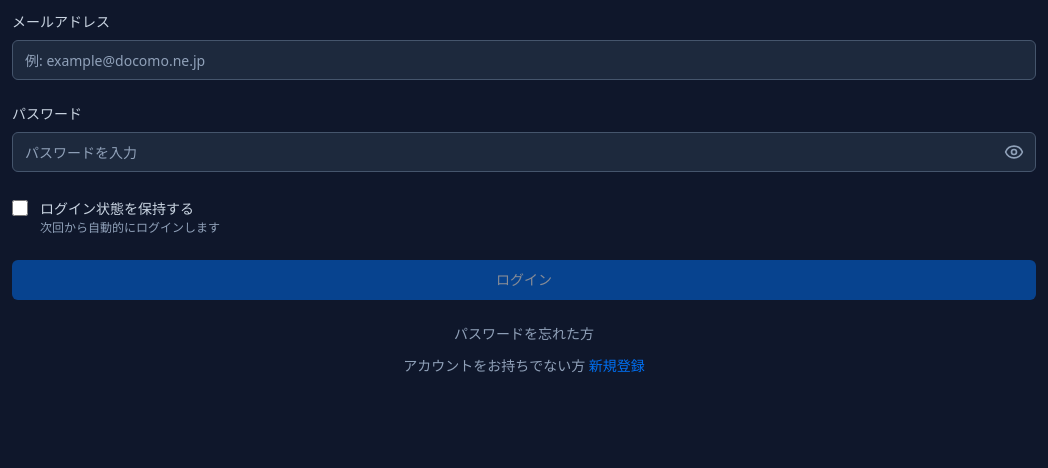
LoginForm › ログイン処理 › LoginForm_WhenLoginFails_ShouldShowErrorMessage
Type "test@docomo.ne.jp" into the field labelled "メールアドレス" at (524, 60), box [12,40,1036,80]
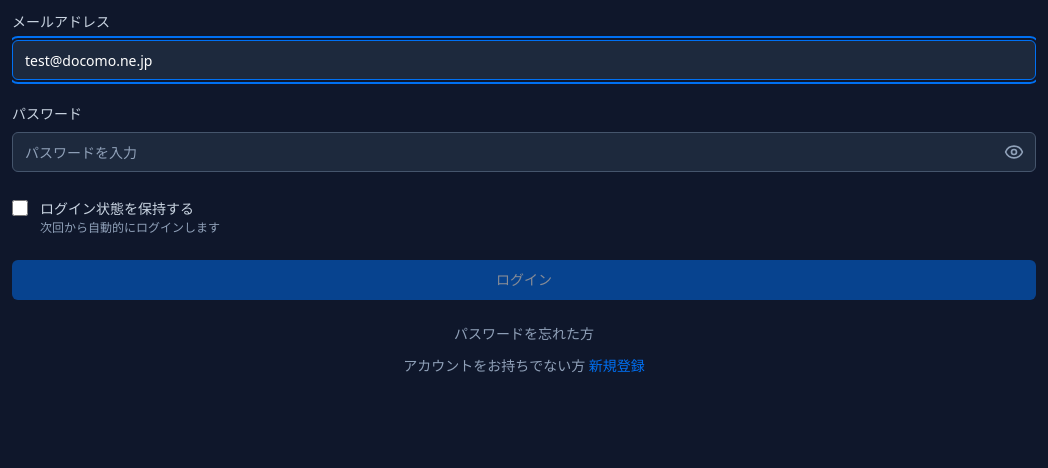
Type "wrongpassword" into the password field labelled "パスワード" at (524, 152), box [12,132,1036,172]
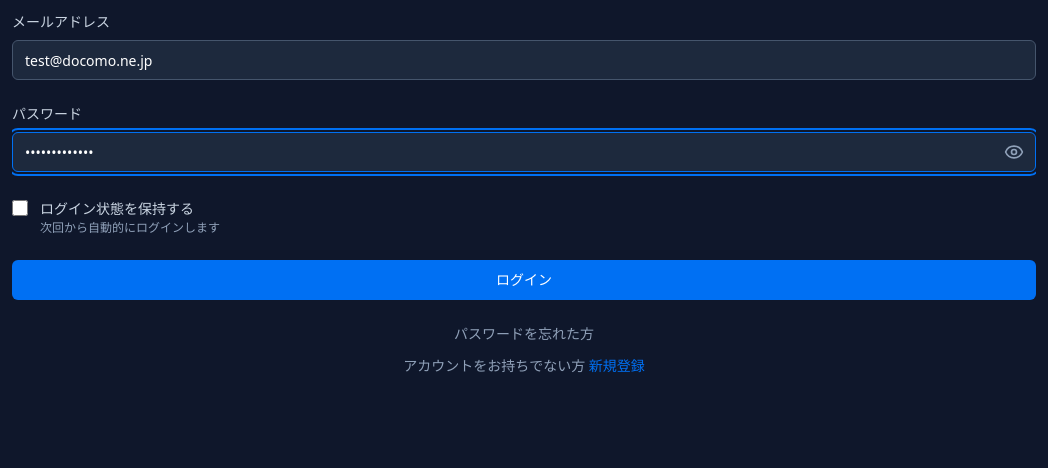
Click the button "ログイン" at (524, 280), box [12,260,1036,300]
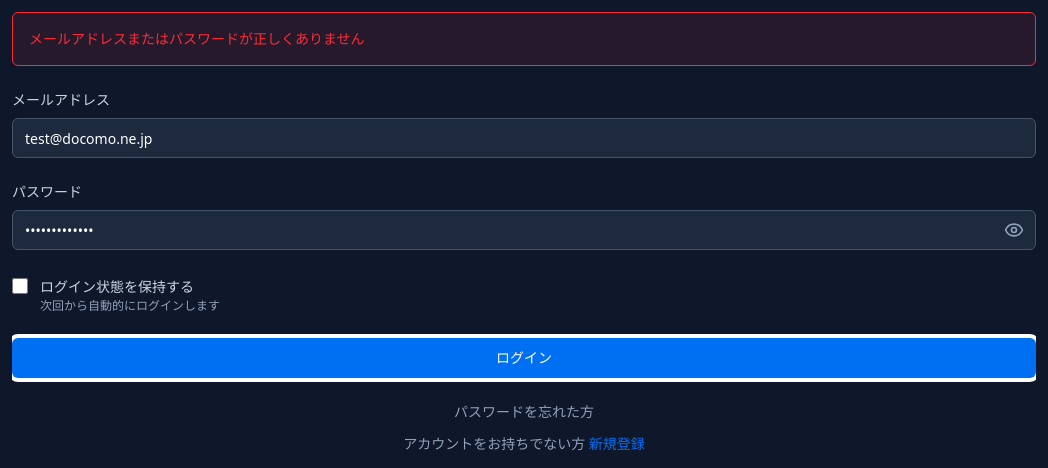
Expected: the text "メールアドレスまたはパスワードが正しくありません" is shown, [12,12,1036,66]
